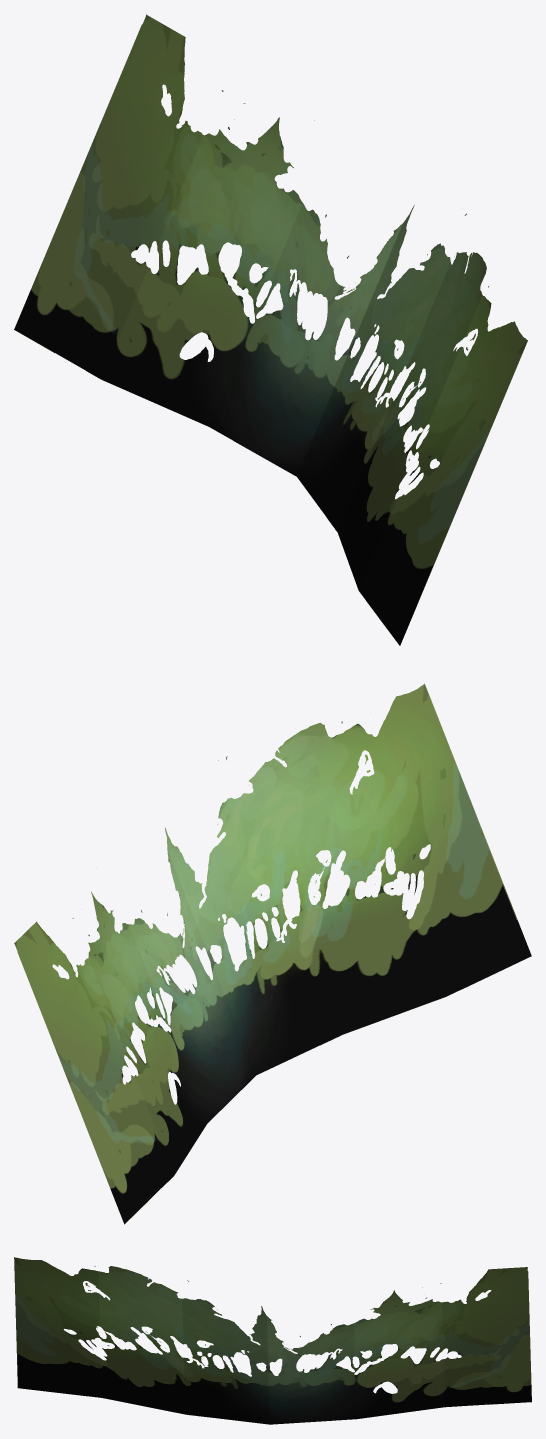
Rendered from BackgroundFrontLayer.fbx.
3 renders of one model, top to bottom at view 1: azimuth 30°, elevation 25°; view 2: azimuth 150°, elevation 25°; view 3: azimuth 270°, elevation 25°, orthographic. The views are drawn at different scales.
Visible parts, largest first — view 1: Plane.011; view 2: Plane.011; view 3: Plane.011.
Boxes of the visible parts, bbox=[...] form: Plane.011: bbox=[14, 14, 527, 645]; Plane.011: bbox=[14, 683, 531, 1224]; Plane.011: bbox=[14, 1257, 531, 1424].
Bounding box in the file's own units: 2392 × 2882 × 7575.
Materials: 1 (1 with a texture image).
